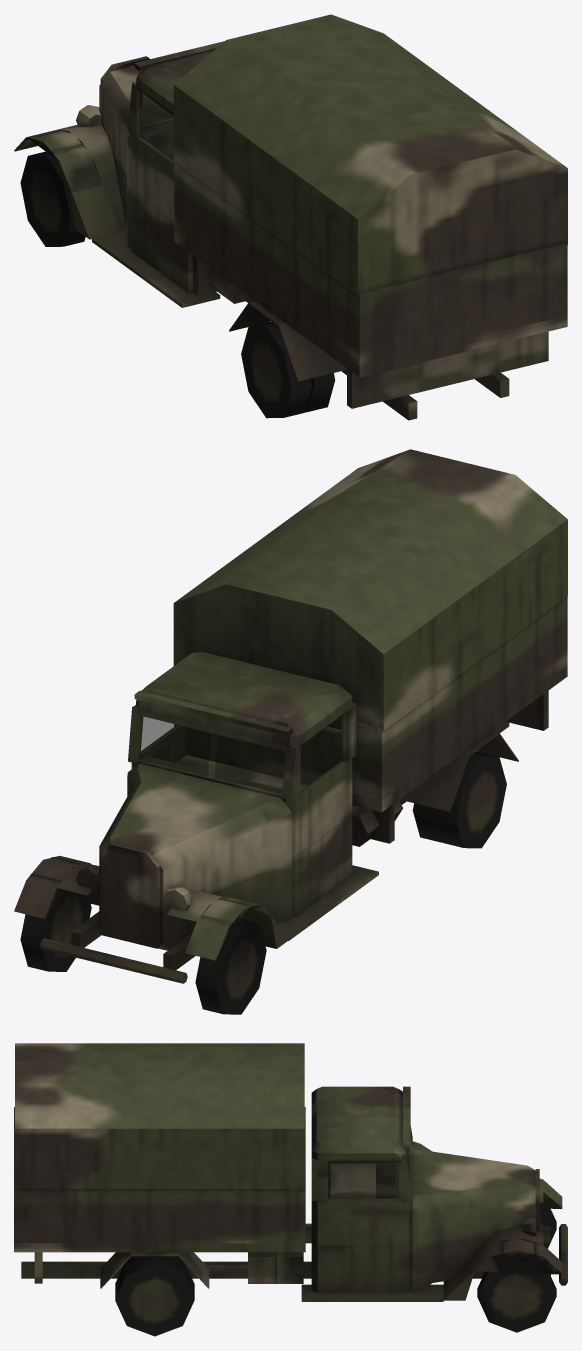
3 renders of one model, top to bottom at view 1: azimuth 30°, elevation 25°; view 2: azimuth 150°, elevation 25°; view 3: azimuth 270°, elevation 25°, orthographic. The views are drawn at different scales.
Visible parts, largest first — view 1: Chassis, Roue_02, Roue_Gauche_01; view 2: Chassis, Roue_02, Roue_Gauche_01, Roue_Droite_01; view 3: Chassis, Roue_02, Roue_Droite_01, Roue_Gauche_01.
Part boxes in pixels (x1,y1,x2,y2): Chassis: [14, 14, 567, 420]; Roue_02: [241, 321, 335, 418]; Roue_Gauche_01: [20, 151, 85, 246]; Chassis: [14, 449, 567, 983]; Roue_02: [412, 751, 506, 848]; Roue_Gauche_01: [195, 919, 266, 1014]; Roue_Droite_01: [20, 889, 91, 971]; Chassis: [14, 1043, 567, 1301]; Roue_02: [115, 1256, 194, 1336]; Roue_Droite_01: [477, 1271, 556, 1332]; Roue_Gauche_01: [539, 1208, 556, 1248].
Bounding box in the file's own units: 202 × 559 × 258.
2 materials, 1 textured.
